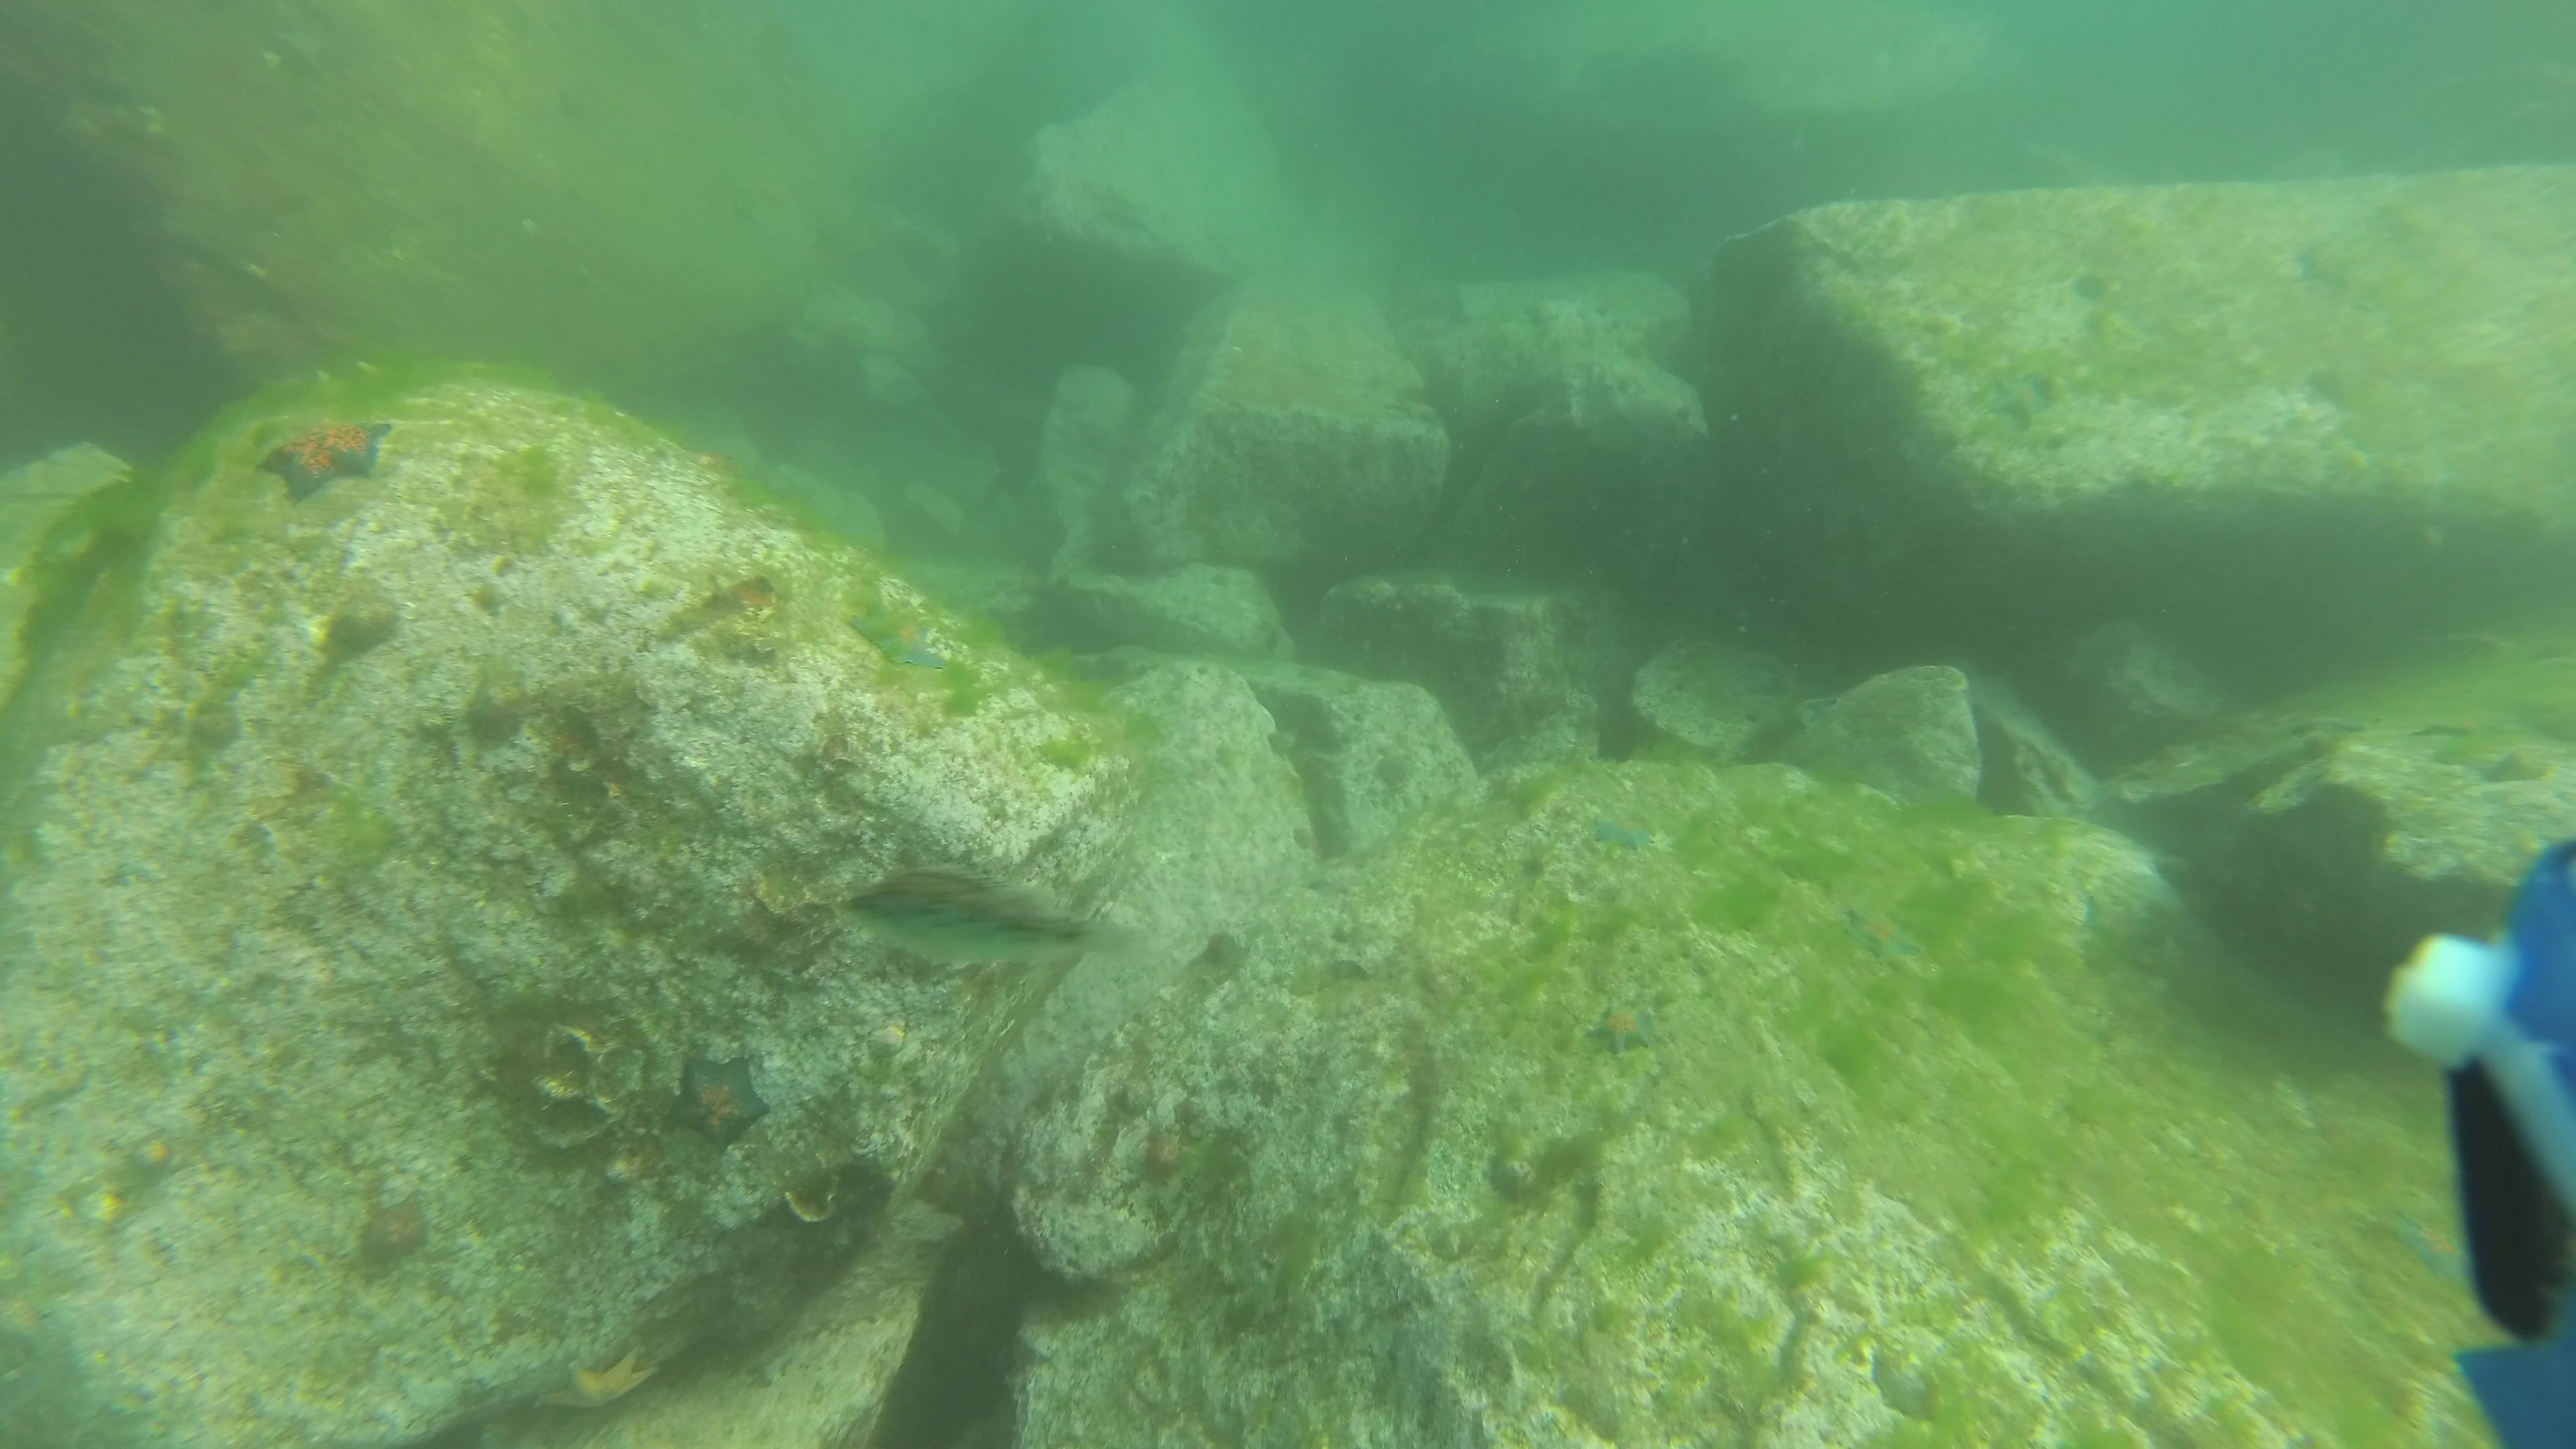starfish: (655, 1049, 782, 1155), (253, 418, 403, 506), (844, 589, 955, 676), (536, 1346, 663, 1419), (2385, 1196, 2468, 1286), (1838, 893, 1930, 970), (1587, 991, 1668, 1063), (1587, 807, 1661, 856)
